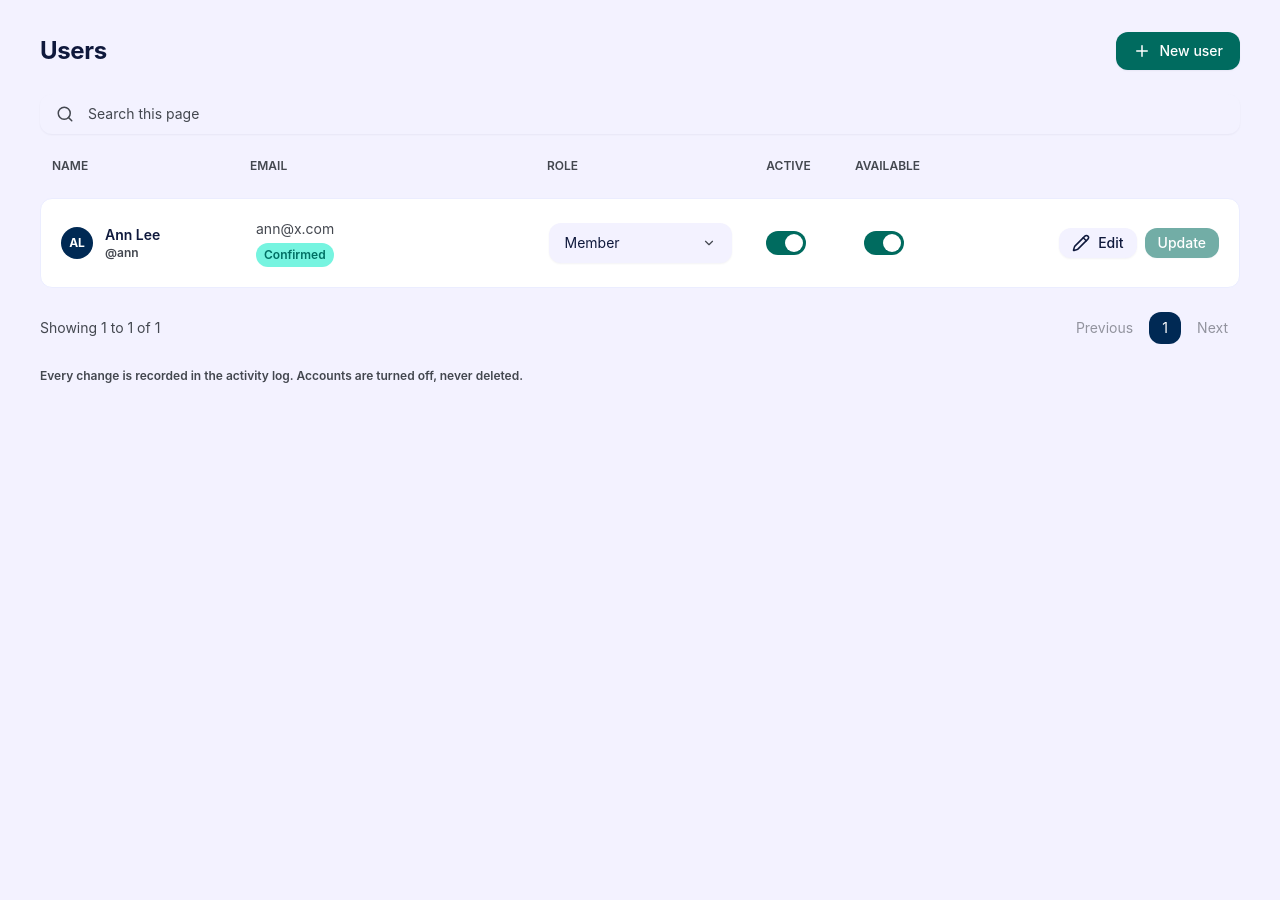
Test case: UsersScreen › lists every staged change together and sends one request with only the changed fields
This screenshot has width=1280, height=900.
Later steps or results of the test are not shown.
Step 1. Click the switch named "Active: ann" → (786, 243), box [764, 221, 808, 265]
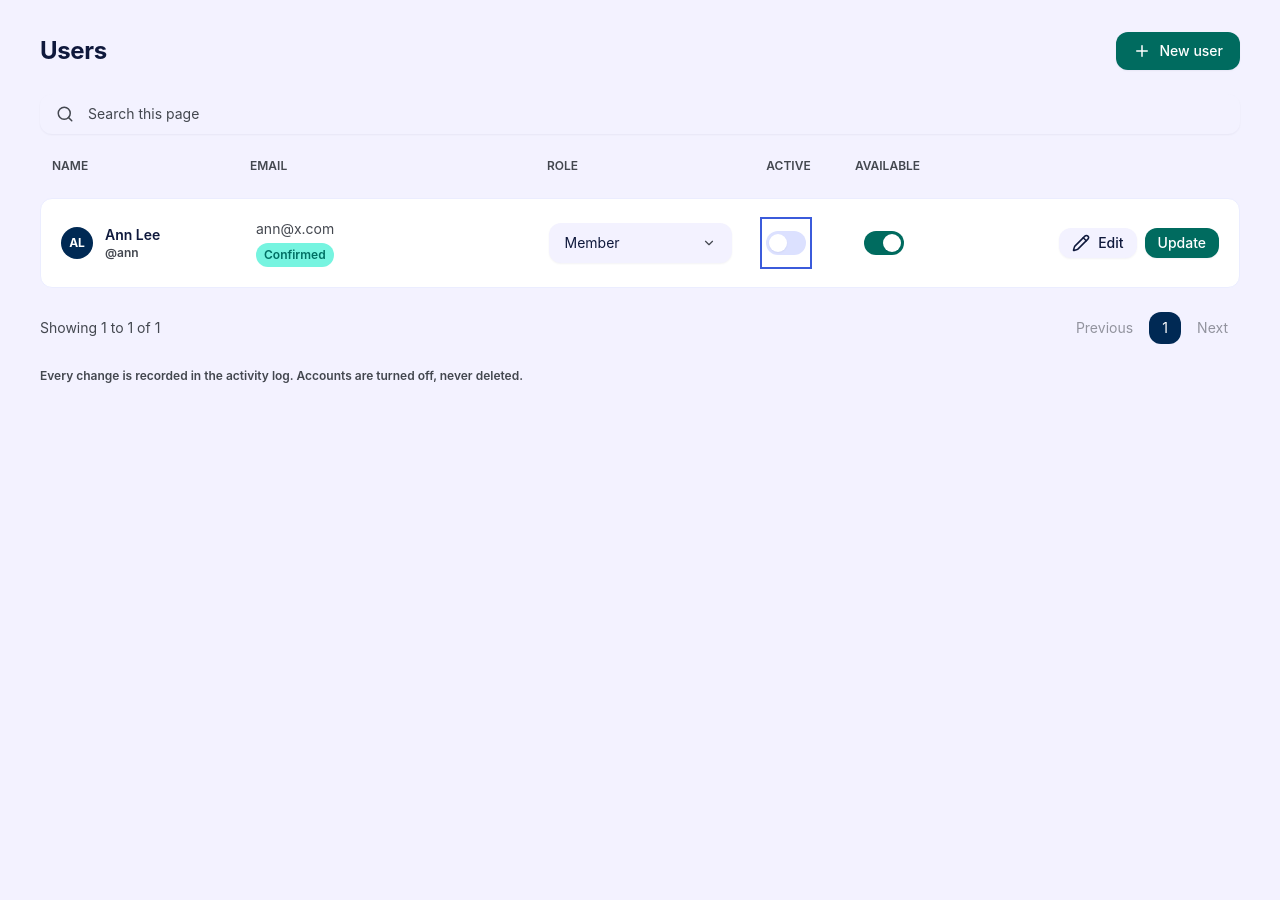
Step 2. Click the switch named "Available: ann" → (884, 243), box [862, 221, 906, 265]
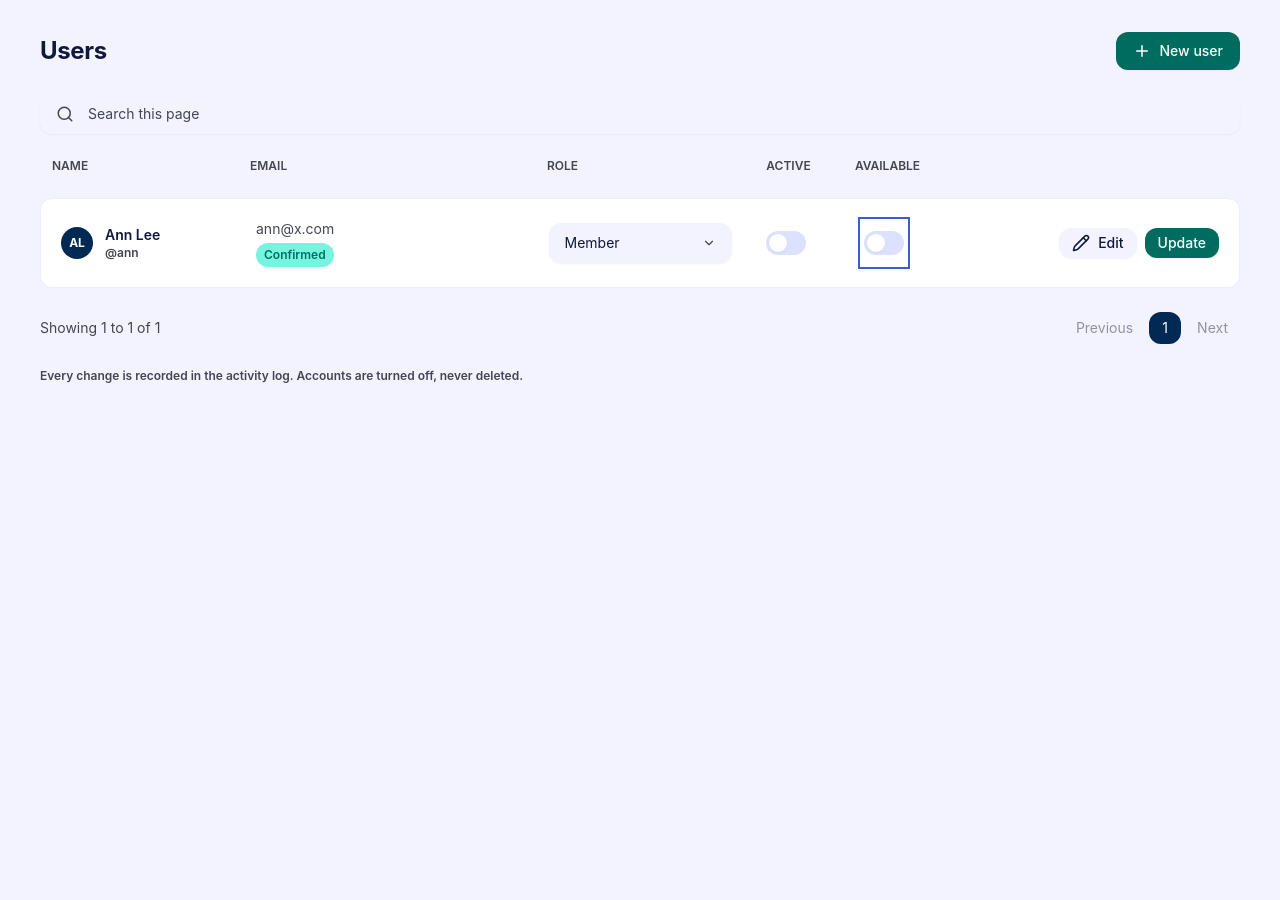
Step 3. Click the button with aria-label "Update ann" → (1182, 243), box [1144, 228, 1219, 258]
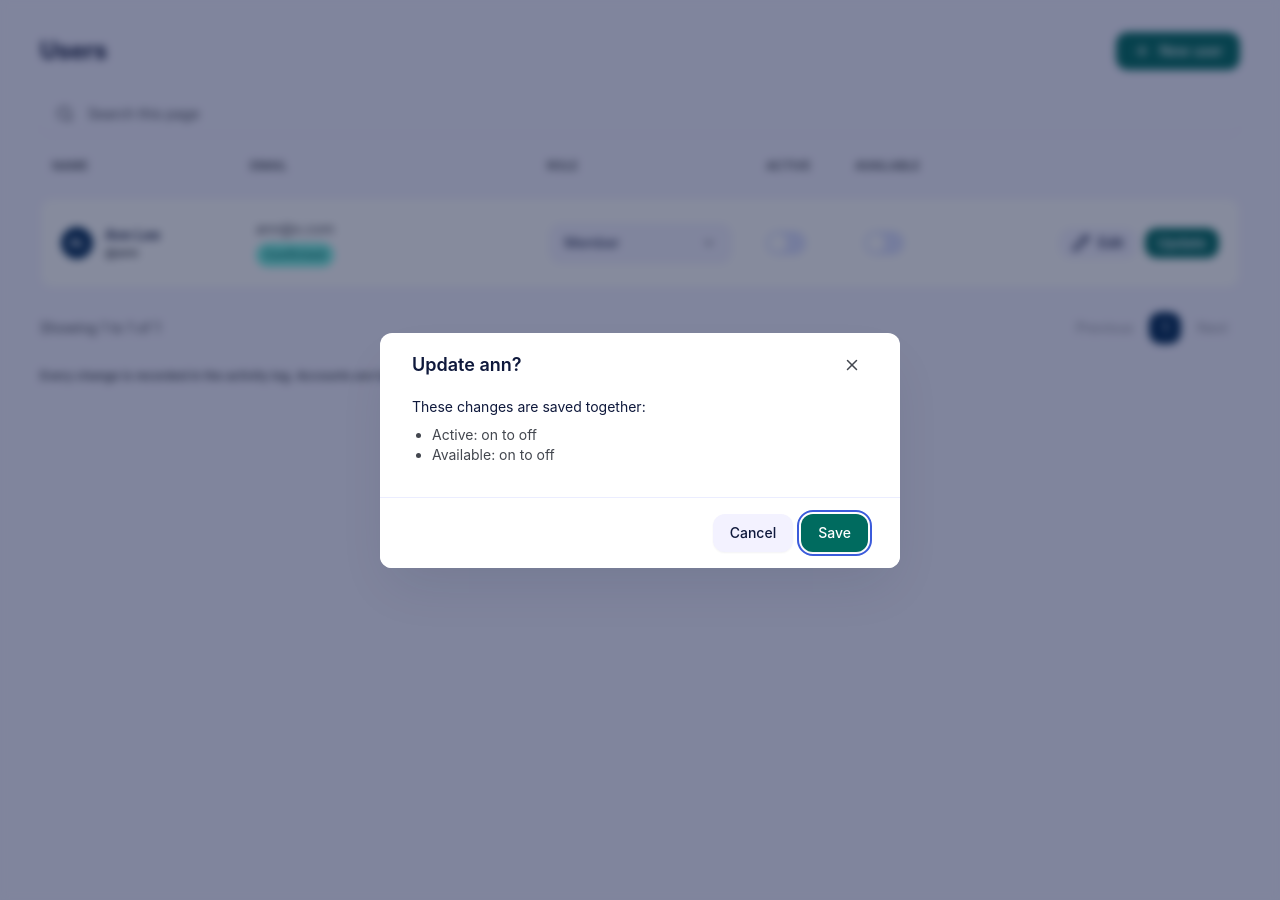
expect the list item "Active: on to off" is shown: met, box [432, 426, 537, 442]
expect the list item "Available: on to off" is shown: met, box [432, 446, 555, 462]
